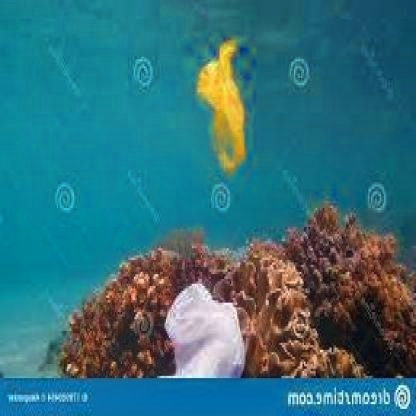pbag: (163, 279, 246, 380), (196, 38, 247, 175)
